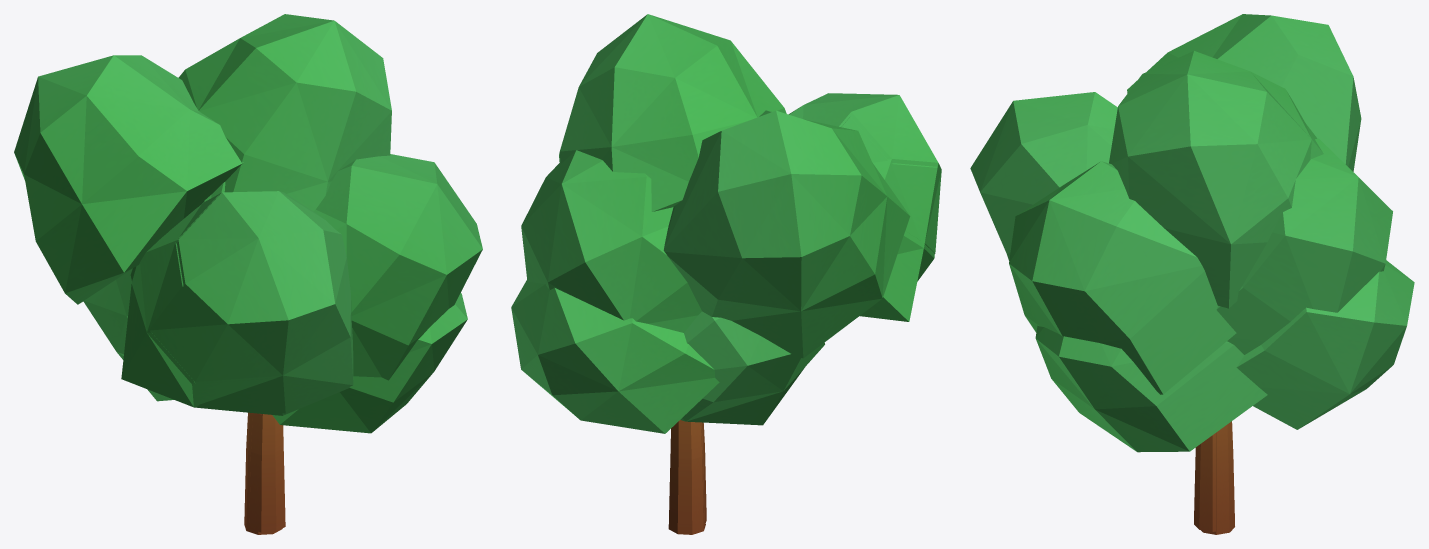
File: Orange_Tree.fbx
3 views of the same model, side by side, from view 1: azimuth 30°, elevation 25°; view 2: azimuth 150°, elevation 25°; view 3: azimuth 270°, elevation 25° (orthographic). The views are drawn at different scales.
Parts seen in each view (by area): view 1: Orange_Tree_B, Orange_Tree_A; view 2: Orange_Tree_B, Orange_Tree_A; view 3: Orange_Tree_B, Orange_Tree_A.
Boxes of the visible parts, box(x1,y1,x2,y2) form: Orange_Tree_B: box(14, 14, 482, 532); Orange_Tree_A: box(83, 182, 467, 534); Orange_Tree_B: box(521, 14, 941, 525); Orange_Tree_A: box(511, 116, 937, 534); Orange_Tree_B: box(970, 14, 1392, 531); Orange_Tree_A: box(1035, 260, 1414, 534).
Size of the model in its own units: 286 by 388 by 327.
1 material, 1 textured.
